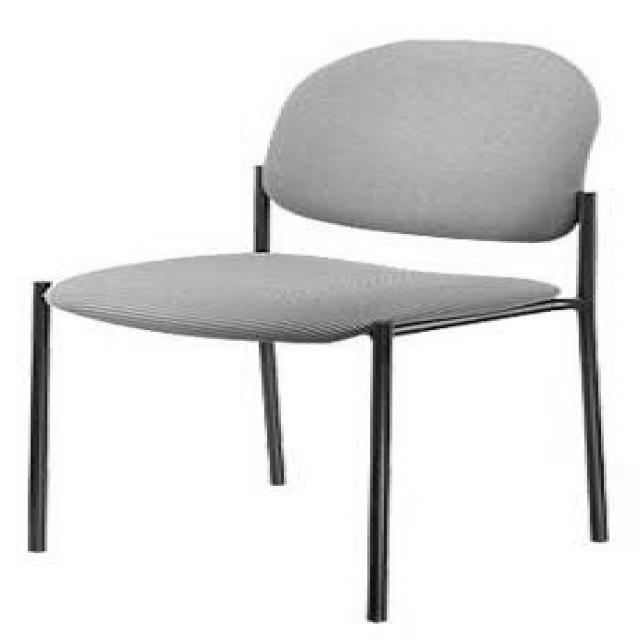chair: (25, 38, 607, 623)
